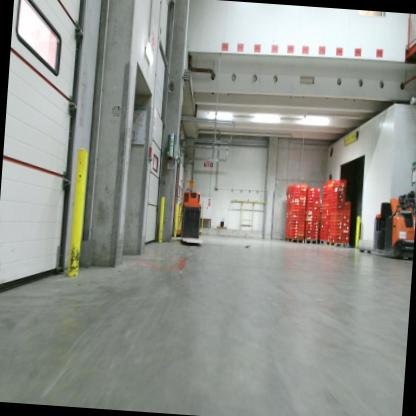pallet: (325, 240, 343, 249), (285, 237, 305, 245), (304, 238, 319, 246), (341, 242, 351, 249), (319, 239, 326, 246)
pallet_truck: (361, 183, 416, 264), (174, 186, 208, 251)
